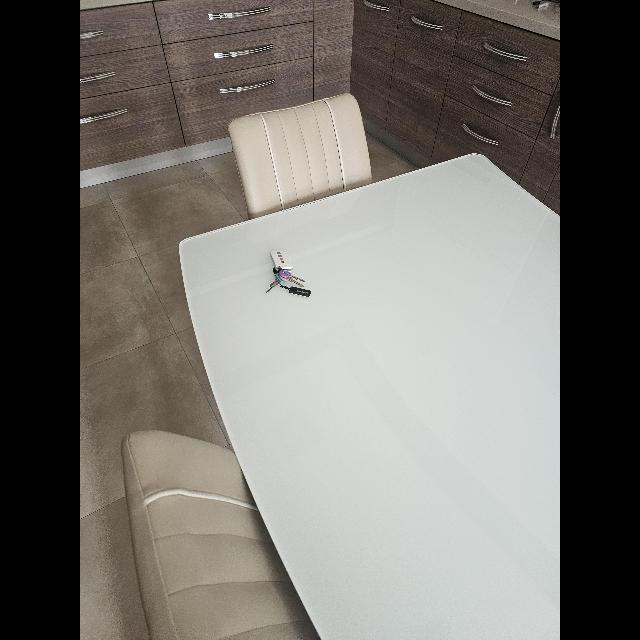Keys: (266, 250, 310, 296)
